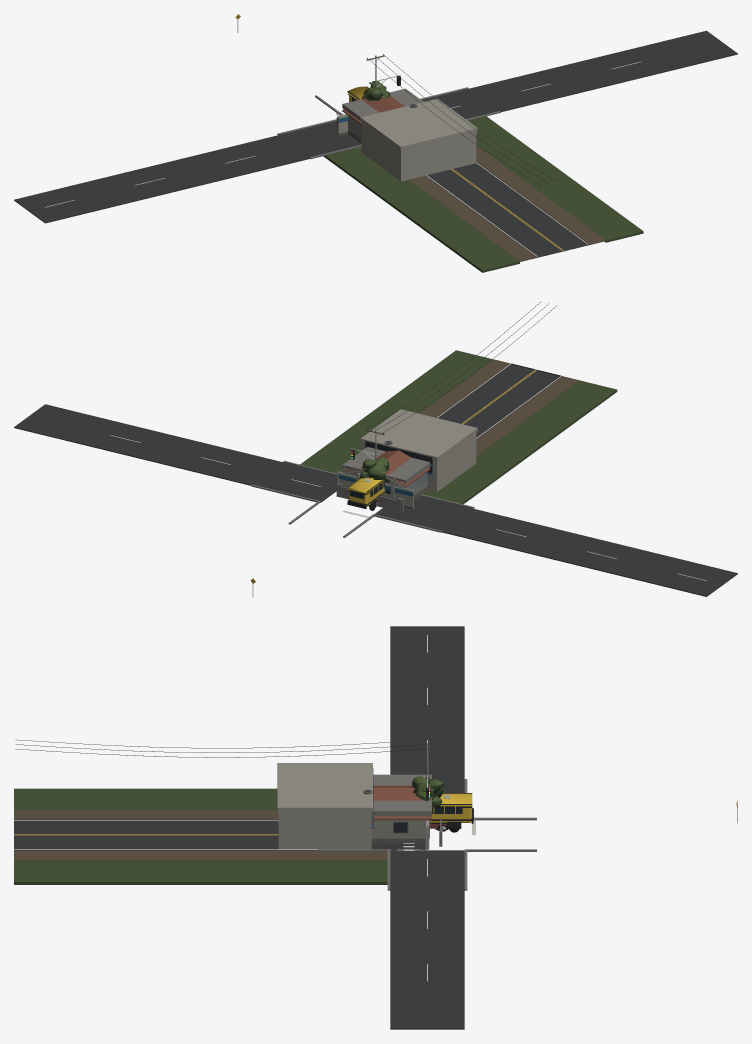
Rendered from via.glb.
3 views of the same model, one above another, from view 1: azimuth 30°, elevation 25°; view 2: azimuth 150°, elevation 25°; view 3: azimuth 270°, elevation 25° (orthographic). The views are drawn at different scales.
Parts seen in each view (by area): view 1: via_trecho, via_cruzamento, via_escola, via_casa_b, via_casa, via_cabos; view 2: via_cruzamento, via_trecho, via_escola, via_casa_b, via_casa, via_onibus, via_cabos, via_arvore; view 3: via_trecho, via_cruzamento, via_escola, via_casa, via_casa_b, via_onibus, via_cabos, via_arvore.
Boxes of the visible parts, x1,y1,x2,y2 form: via_trecho: [323, 116, 643, 272]; via_cruzamento: [14, 30, 737, 223]; via_escola: [338, 98, 477, 181]; via_casa_b: [342, 88, 423, 138]; via_casa: [336, 95, 417, 143]; via_cabos: [368, 55, 556, 185]; via_cruzamento: [14, 404, 737, 596]; via_trecho: [300, 350, 617, 504]; via_escola: [337, 409, 477, 509]; via_casa_b: [339, 447, 430, 511]; via_casa: [336, 440, 430, 512]; via_onibus: [347, 477, 385, 510]; via_cabos: [368, 301, 556, 432]; via_arvore: [360, 456, 389, 482]; via_trecho: [14, 788, 395, 884]; via_cruzamento: [318, 626, 536, 1029]; via_escola: [277, 763, 428, 849]; via_casa: [363, 785, 442, 846]; via_casa_b: [371, 774, 441, 838]; via_onibus: [430, 793, 473, 832]; via_cabos: [15, 739, 427, 757]; via_arvore: [412, 775, 443, 808].
Size of what is drawn, in the model's own units: 92 by 9.33 by 70.03.
